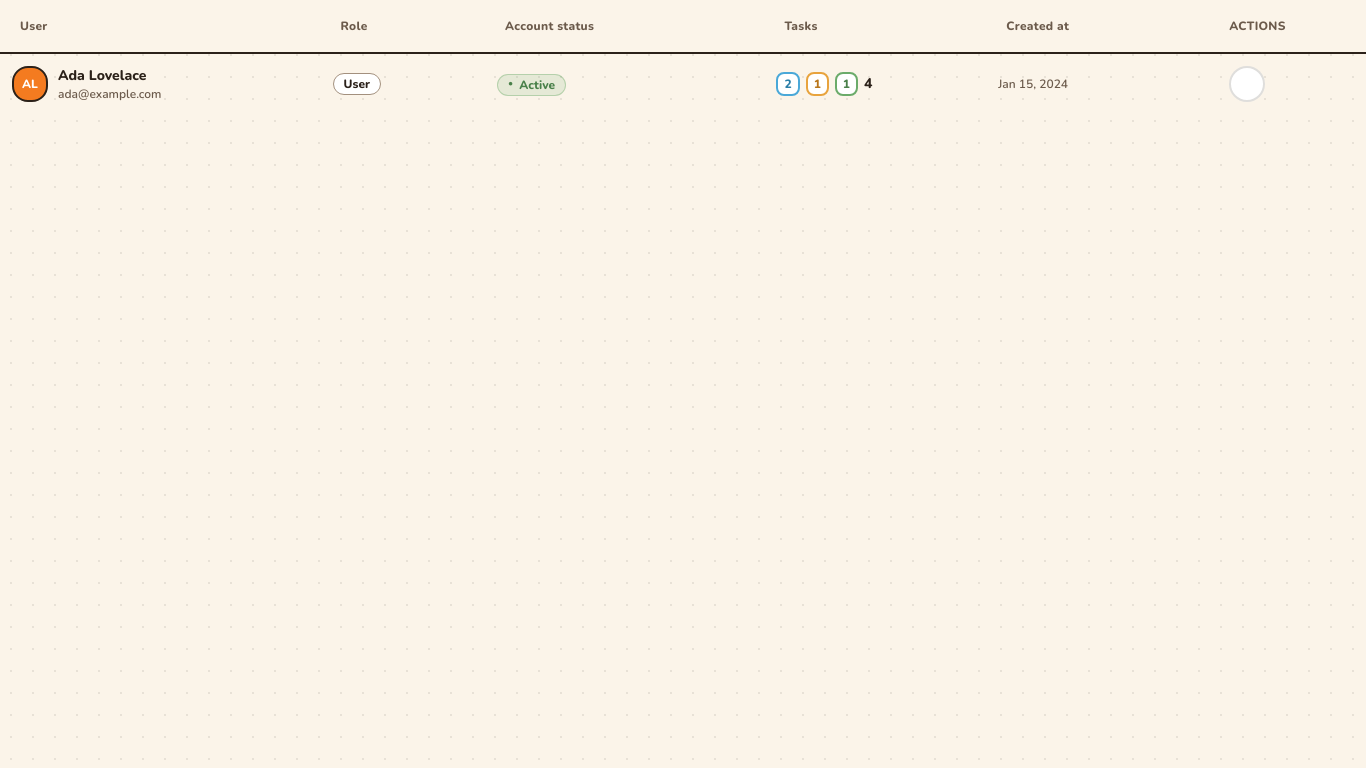
the users table › closes the menu on Escape and on a click elsewhere
The image size is (1366, 768).
Step 1. Click the button named "Actions for Ada Lovelace" → (1247,84), box 1229,66 -> 1265,102
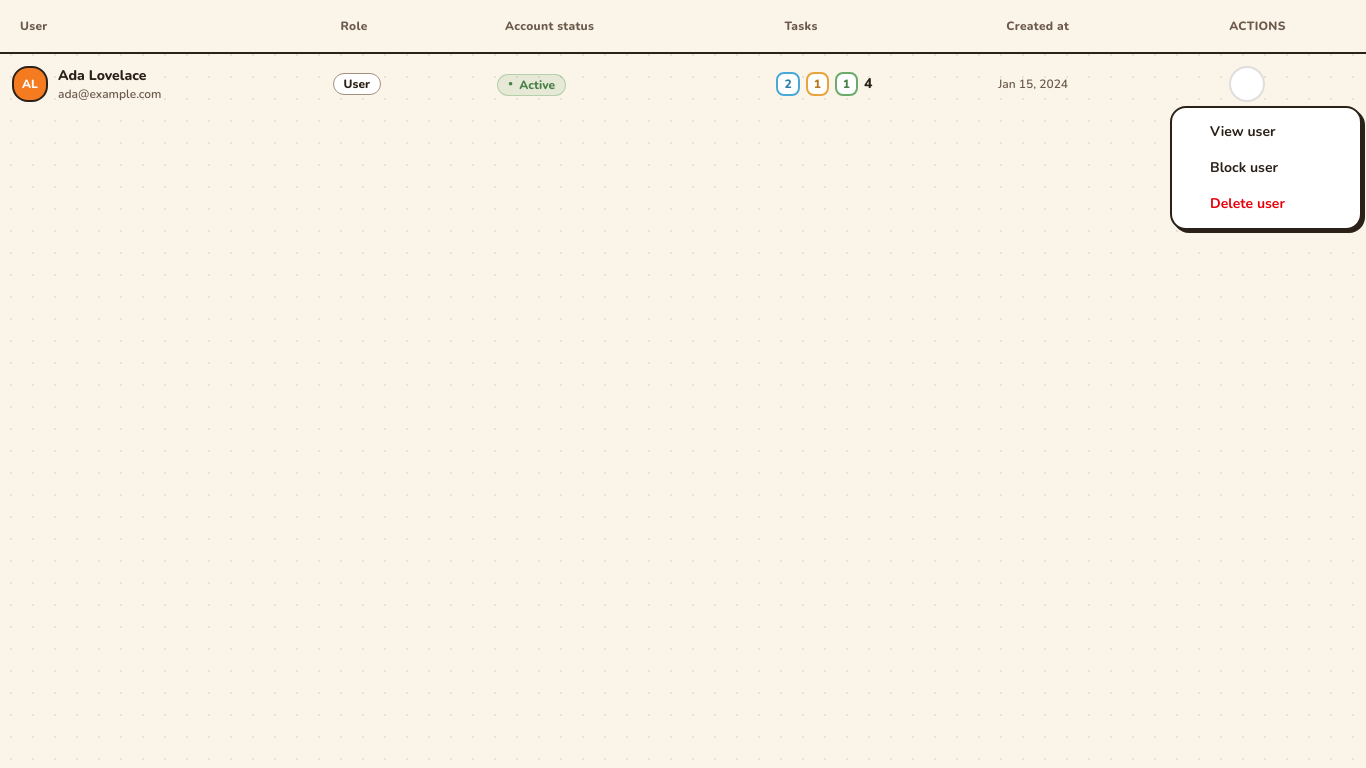
Step 2. Press Escape
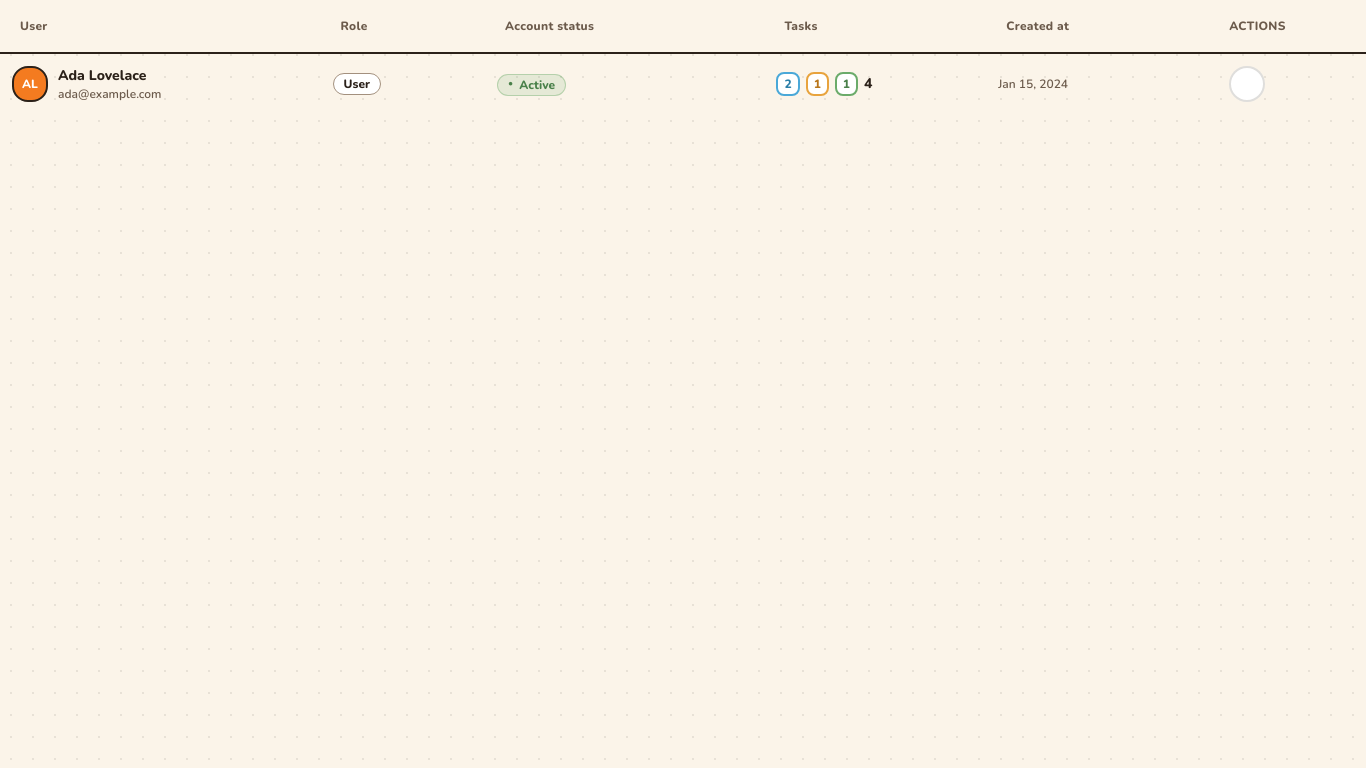
Result: the menu is gone
Step 3. Click the button named "Actions for Ada Lovelace" → (1247,84), box 1229,66 -> 1265,102
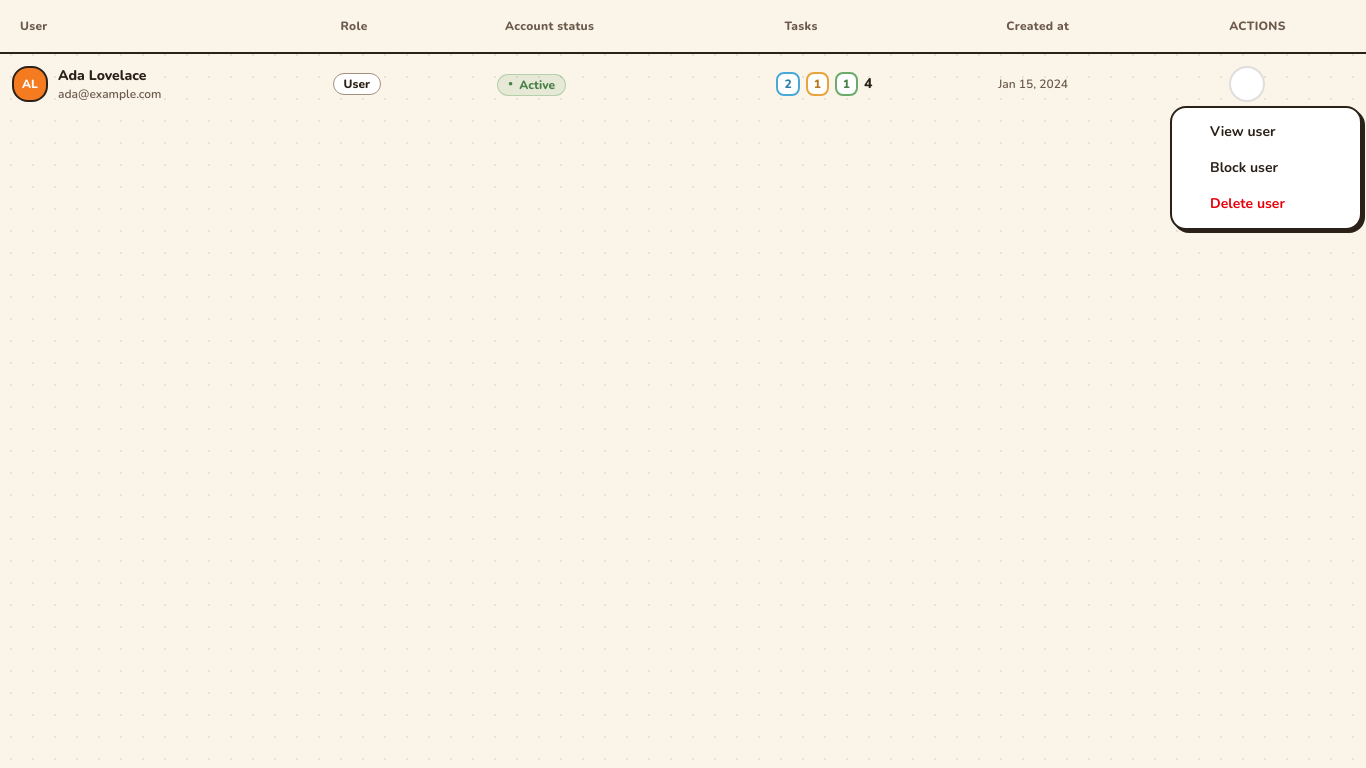
Result: the menu is shown at 1170,106 -> 1362,230
Step 4. Press the mouse on the element that starts with "User" → (683,57), box 0,0 -> 1365,114
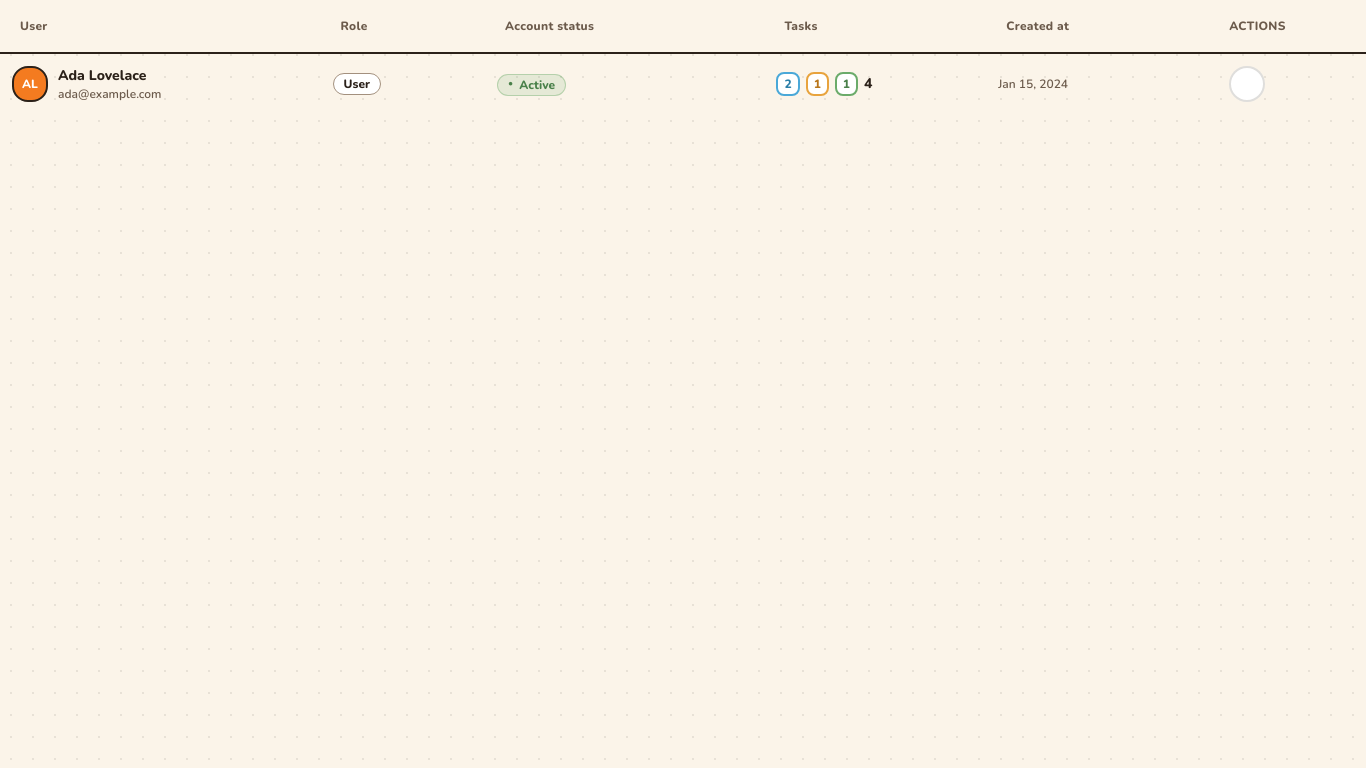
Result: the menu is gone
